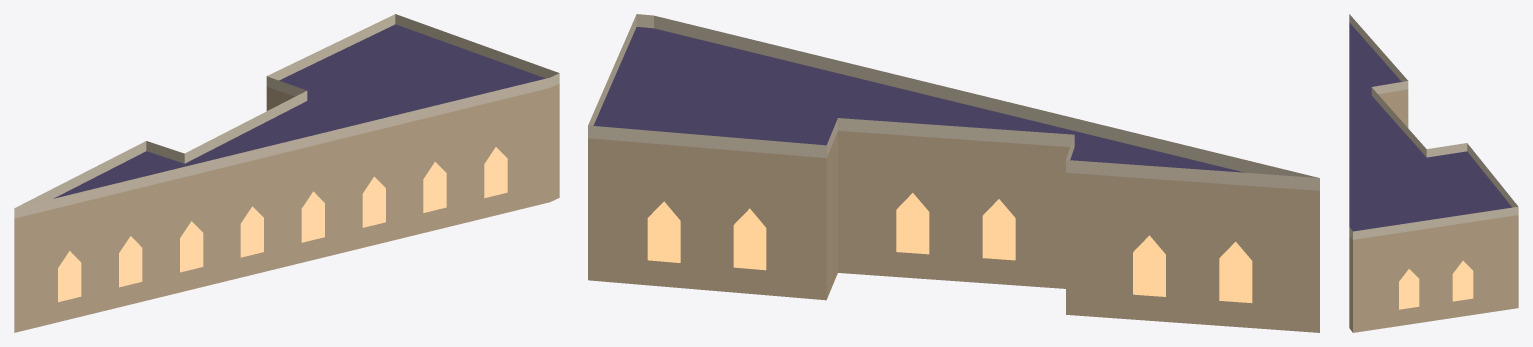
The picture shows the model from 3 angles, left to right: view 1: azimuth 30°, elevation 25°; view 2: azimuth 150°, elevation 25°; view 3: azimuth 270°, elevation 25°; orthographic projection. The views are drawn at different scales.
Visible parts, largest first — view 1: campus/b-130-0; view 2: campus/b-130-0; view 3: campus/b-130-0.
Part boxes in pixels (bbox=[...]): campus/b-130-0: bbox=[14, 14, 559, 332]; campus/b-130-0: bbox=[588, 14, 1319, 332]; campus/b-130-0: bbox=[1349, 14, 1518, 332].
Bounding box in the file's own units: 30.57 × 6.65 × 10.1.
